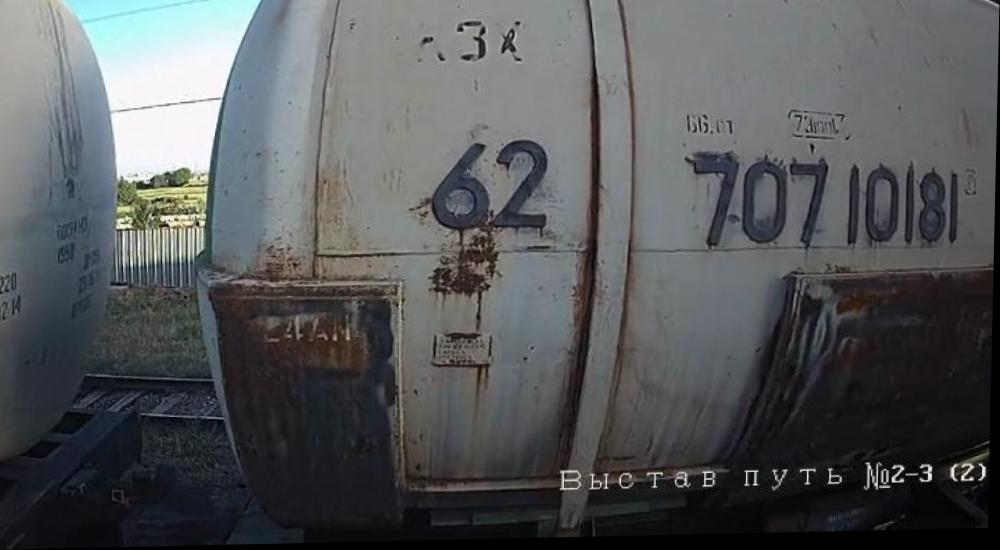Wagon-number: (688, 150, 968, 255)
